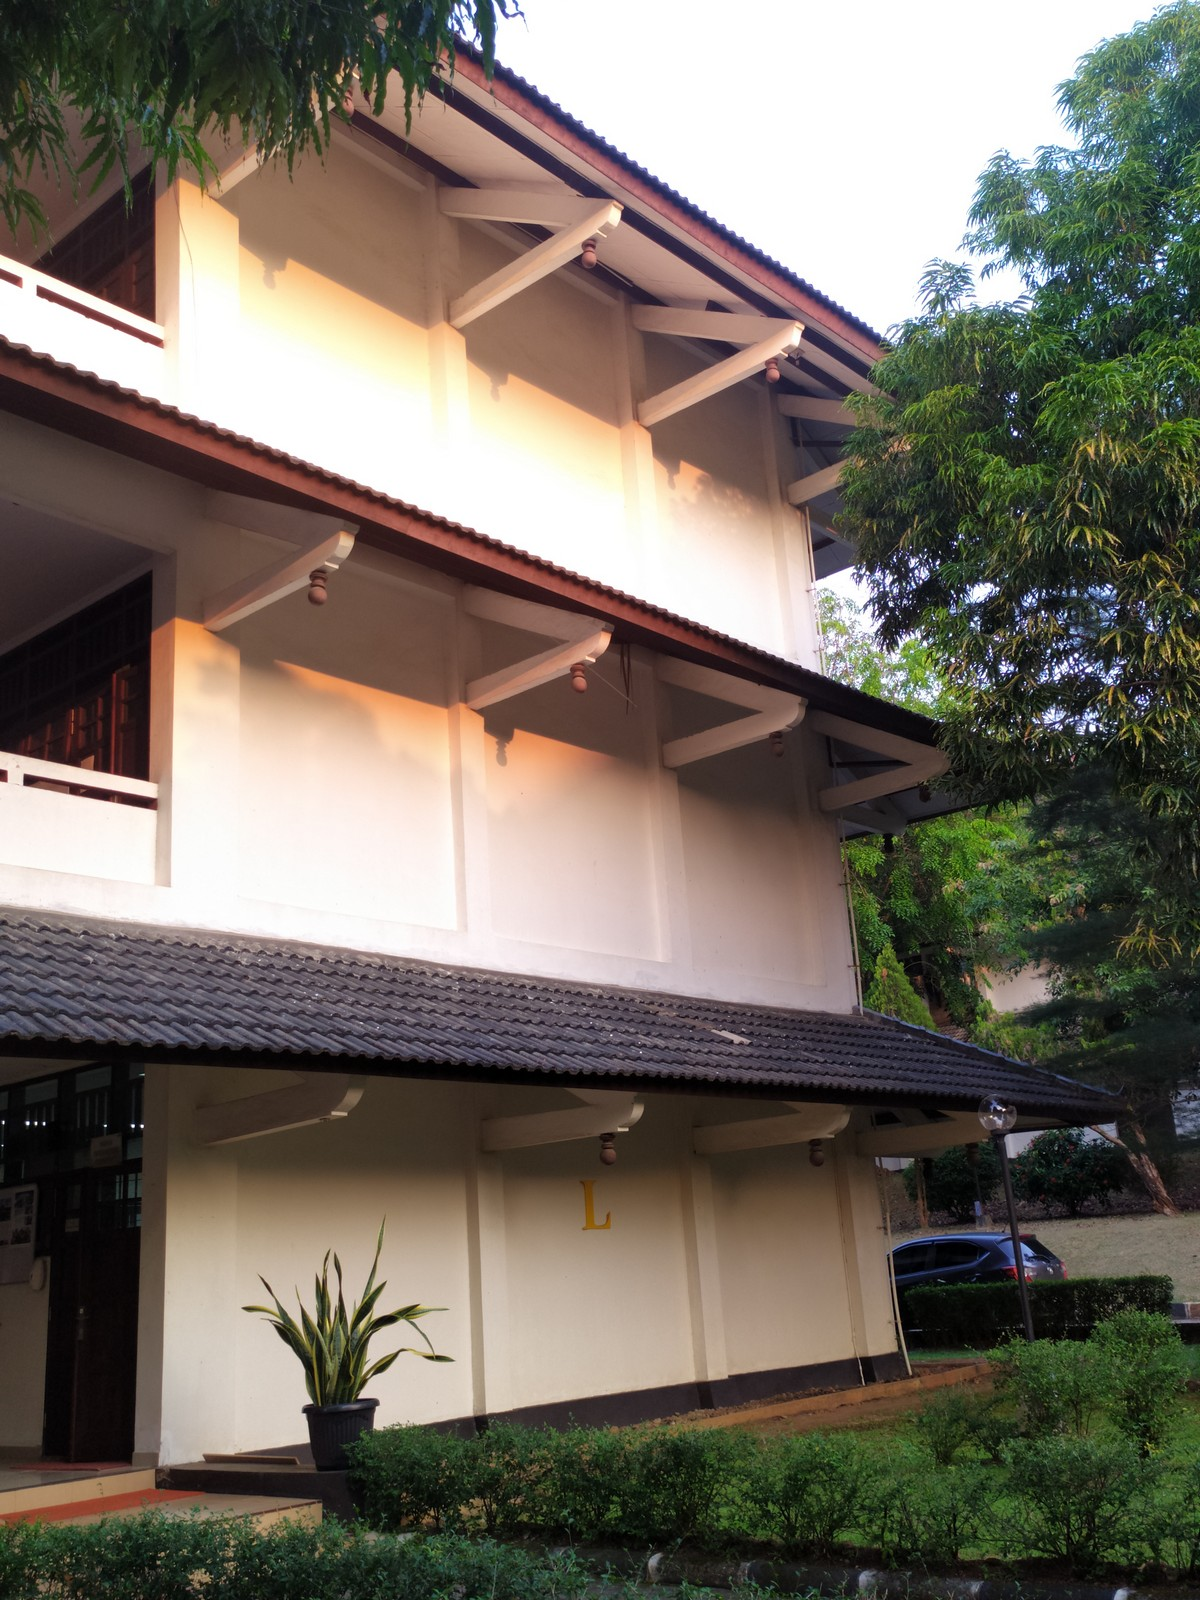concrete beam: (442, 239, 577, 336), (192, 551, 316, 636), (195, 1083, 316, 1158), (458, 648, 574, 721), (653, 716, 766, 774)
concrete column: (127, 1060, 246, 1471), (141, 527, 253, 903), (146, 105, 253, 414), (437, 607, 517, 951), (456, 1105, 536, 1424), (420, 163, 480, 501)
